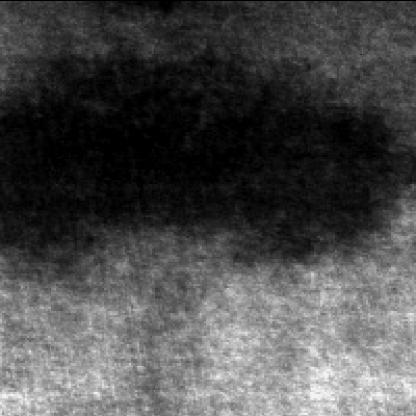patches: (6, 64, 393, 254)
